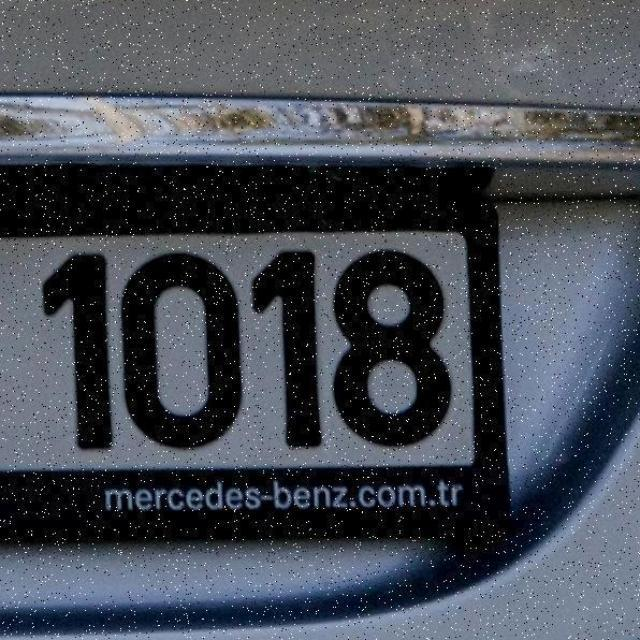license-plate: (1, 148, 535, 490)
